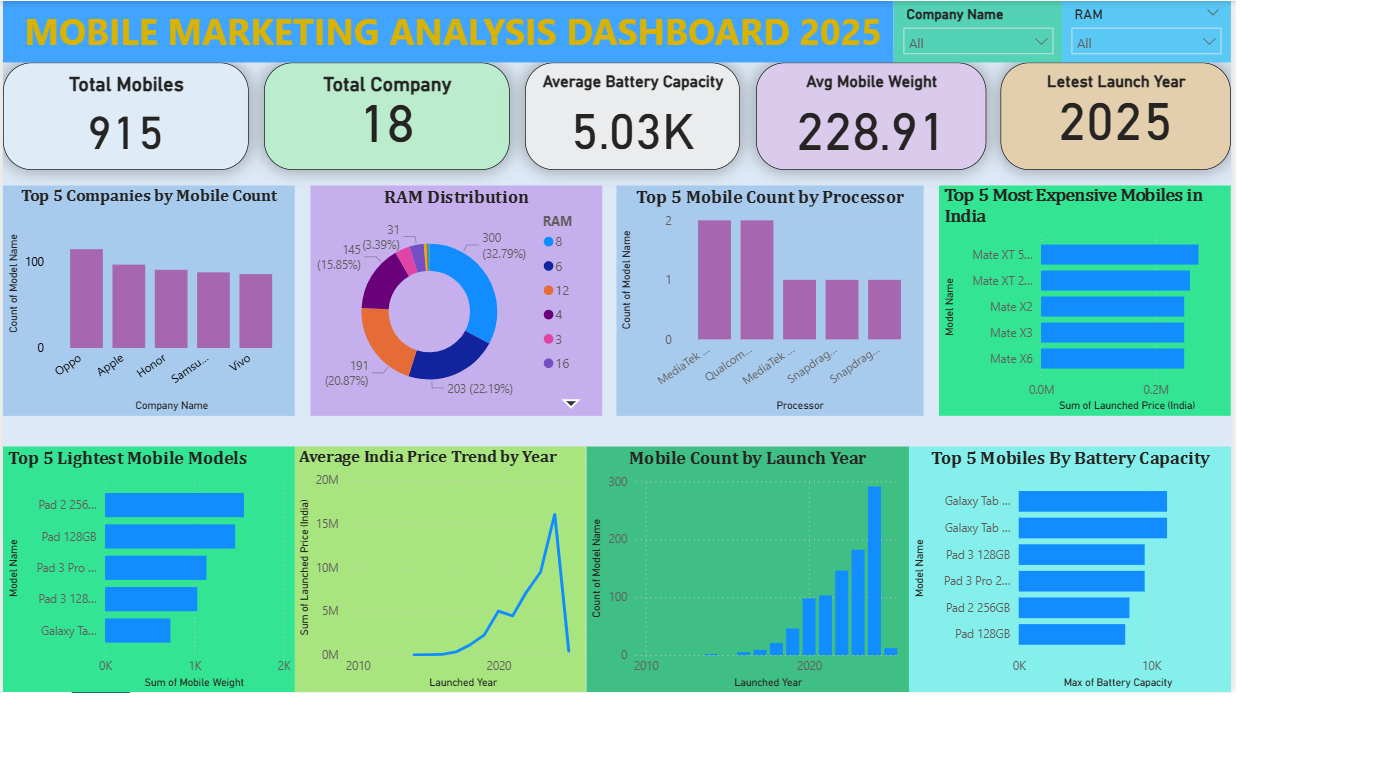

This screenshot's page, from the dashboard's own definition file:
{"tool":"powerbi","page":{"name":"Page 2","canvas":[1280,720],"ordinal":0},"visuals":[{"type":"card","title":"Total Mobiles","fields":{"Values":["Mobiles Dataset (2025) (1)_Clea.Total mobiles"]},"box":[0,64,256,112],"z":0},{"type":"card","title":"Total Company","fields":{"Values":["Mobiles Dataset (2025) (1)_Clea.Total Company"]},"box":[272,64,256,112],"z":1000},{"type":"card","title":"Average Battery Capacity","fields":{"Values":["Mobiles Dataset (2025) (1)_Clea.Avg Bettery Capacity"]},"box":[544,64,224,112],"z":2000},{"type":"card","title":"Avg Mobile Weight","fields":{"Values":["Mobiles Dataset (2025) (1)_Clea.Avg Mobile Weight"]},"box":[784,64,240,112],"z":3000},{"type":"card","title":"Letest Launch Year","fields":{"Values":["Mobiles Dataset (2025) (1)_Clea.Letest Launch Year"]},"box":[1040,64,240,112],"z":4000},{"type":"clusteredColumnChart","title":"Top 5 Companies by Mobile Count","fields":{"Category":["Mobiles Dataset (2025) (1)_Clea.Company Name"],"Y":["CountNonNull(Mobiles Dataset (2025) (1)_Clea.Model Name)"]},"box":[0,192,304,240],"z":5000},{"type":"donutChart","title":"RAM Distribution","fields":{"Y":["CountNonNull(Mobiles Dataset (2025) (1)_Clea.Model Name)"],"Category":["Mobiles Dataset (2025) (1)_Clea.RAM"]},"box":[320,192,304,240],"z":6000},{"type":"clusteredBarChart","title":"Top 5 Most Expensive Mobiles in India","fields":{"Category":["Mobiles Dataset (2025) (1)_Clea.Model Name"],"Y":["Sum(Mobiles Dataset (2025) (1)_Clea.Launched Price (India))"]},"box":[976,192,304,240],"z":7000},{"type":"lineChart","title":"Average India Price Trend by Year","fields":{"Category":["Mobiles Dataset (2025) (1)_Clea.Launched Year"],"Y":["Sum(Mobiles Dataset (2025) (1)_Clea.Launched Price (India))"]},"box":[304,464,304,256],"z":8000},{"type":"clusteredColumnChart","title":"Top 5 Mobile Count by Processor","fields":{"Category":["Mobiles Dataset (2025) (1)_Clea.Processor"],"Y":["CountNonNull(Mobiles Dataset (2025) (1)_Clea.Model Name)"]},"box":[640,192,320,240],"z":9000},{"type":"barChart","title":"Top 5 Mobiles By Battery Capacity","fields":{"Y":["Max(Mobiles Dataset (2025) (1)_Clea.Battery Capacity)"],"Category":["Mobiles Dataset (2025) (1)_Clea.Model Name"]},"box":[944,464,336,256],"z":10000},{"type":"clusteredBarChart","title":"Top 5 Lightest Mobile Models","fields":{"Category":["Mobiles Dataset (2025) (1)_Clea.Model Name"],"Y":["Sum(Mobiles Dataset (2025) (1)_Clea.Mobile Weight)"]},"box":[0,464,304,256],"z":11000},{"type":"columnChart","title":"Mobile Count by Launch Year","fields":{"Category":["Mobiles Dataset (2025) (1)_Clea.Launched Year"],"Y":["CountNonNull(Mobiles Dataset (2025) (1)_Clea.Model Name)"]},"box":[608,464,336,256],"z":12000},{"type":"textbox","title":" ","box":[0,0,928,64],"z":13000},{"type":"slicer","fields":{"Values":["Mobiles Dataset (2025) (1)_Clea.Company Name"]},"box":[928,0,176,64],"z":14000},{"type":"slicer","fields":{"Values":["Mobiles Dataset (2025) (1)_Clea.RAM"]},"box":[1104,0,176,64],"z":15000}]}

Visuals, with their boxes in screenshot pixels (x1, y1, x2, y2), scaled from the page's 1280x720 canvas onto the 1377x767 screenshot:
"Total Mobiles" card: BBox(0, 68, 275, 187)
"Total Company" card: BBox(293, 68, 568, 187)
"Average Battery Capacity" card: BBox(585, 68, 826, 187)
"Avg Mobile Weight" card: BBox(843, 68, 1102, 187)
"Letest Launch Year" card: BBox(1119, 68, 1376, 187)
"Top 5 Companies by Mobile Count" clusteredColumnChart: BBox(0, 205, 327, 460)
"RAM Distribution" donutChart: BBox(344, 205, 671, 460)
"Top 5 Most Expensive Mobiles in India" clusteredBarChart: BBox(1050, 205, 1376, 460)
"Average India Price Trend by Year" lineChart: BBox(327, 494, 654, 766)
"Top 5 Mobile Count by Processor" clusteredColumnChart: BBox(688, 205, 1033, 460)
"Top 5 Mobiles By Battery Capacity" barChart: BBox(1016, 494, 1376, 766)
"Top 5 Lightest Mobile Models" clusteredBarChart: BBox(0, 494, 327, 766)
"Mobile Count by Launch Year" columnChart: BBox(654, 494, 1016, 766)
" " textbox: BBox(0, 0, 998, 68)
slicer - Mobiles Dataset (2025) (1)_Clea.Company Name: BBox(998, 0, 1188, 68)
slicer - Mobiles Dataset (2025) (1)_Clea.RAM: BBox(1188, 0, 1376, 68)
